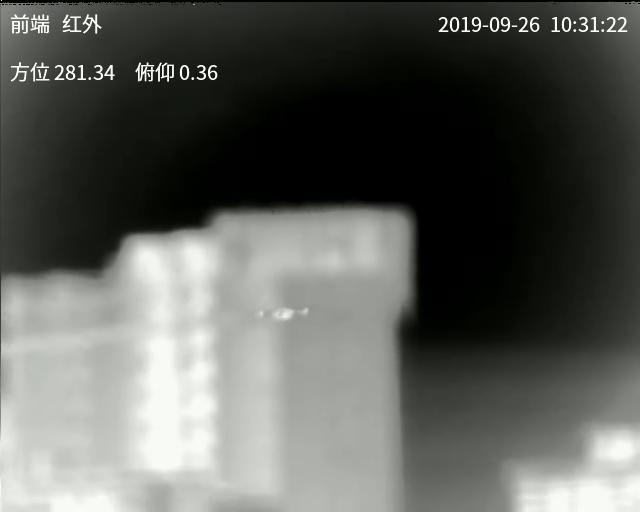uav: (251, 301, 310, 325)
